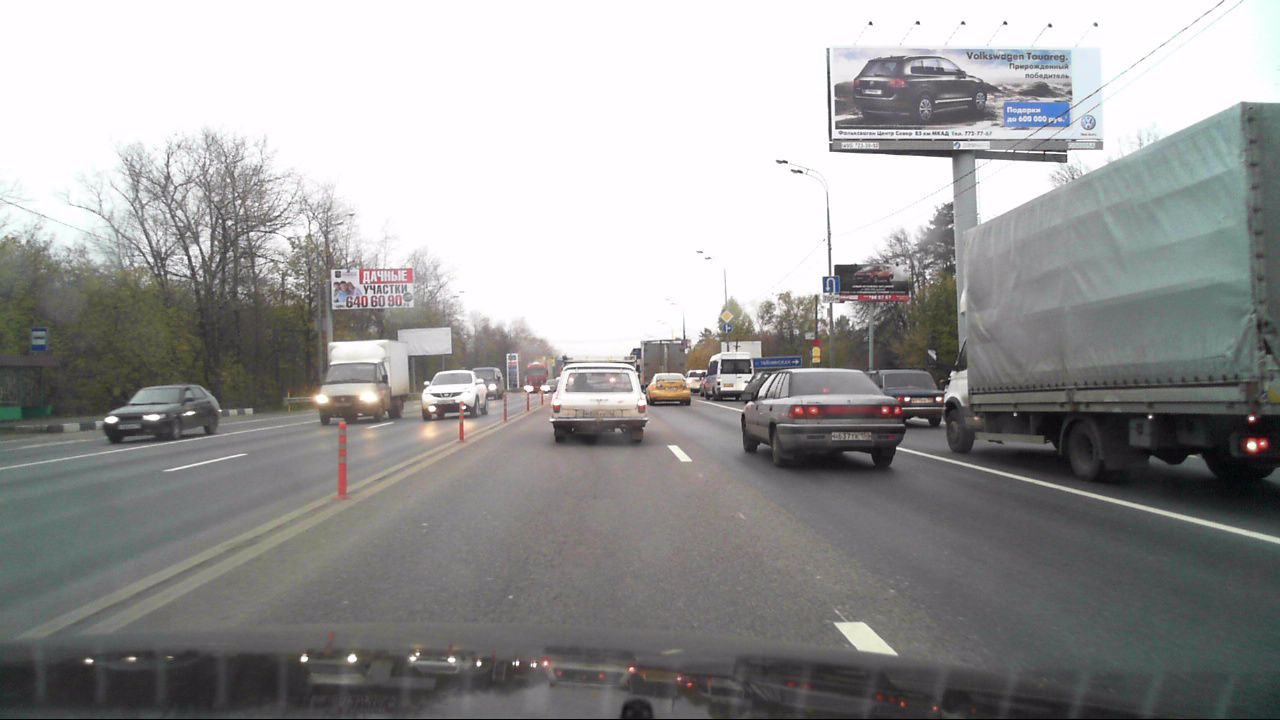U-turn: (822, 276, 839, 293)
